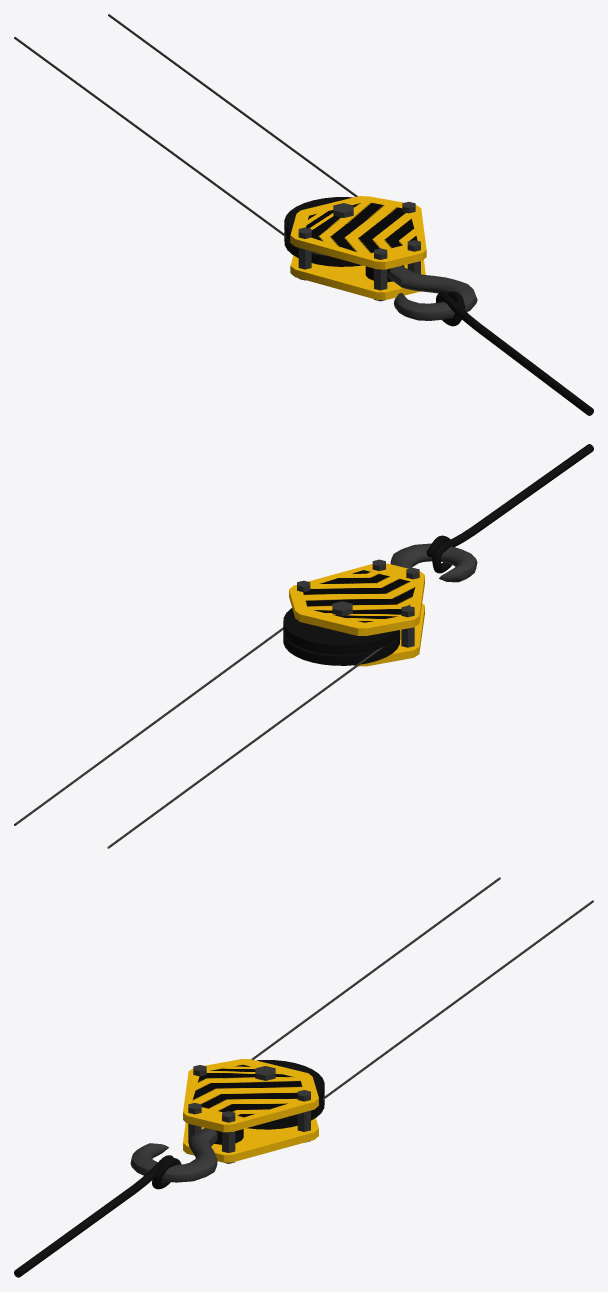
Rendered from Crane Hook.fbx.
The picture shows the model from 3 angles, top to bottom: view 1: azimuth 30°, elevation 25°; view 2: azimuth 150°, elevation 25°; view 3: azimuth 330°, elevation 25°; orthographic projection.
Visible parts, largest first — view 1: Box001; view 2: Box001; view 3: Box001.
Part boxes in pixels (<box>): Box001: <box>14,14,593,415</box>; Box001: <box>14,444,593,848</box>; Box001: <box>14,877,593,1277</box>.
Bounding box in the file's own units: 101 × 35.56 × 732.
Materials: 4 (1 with a texture image).
